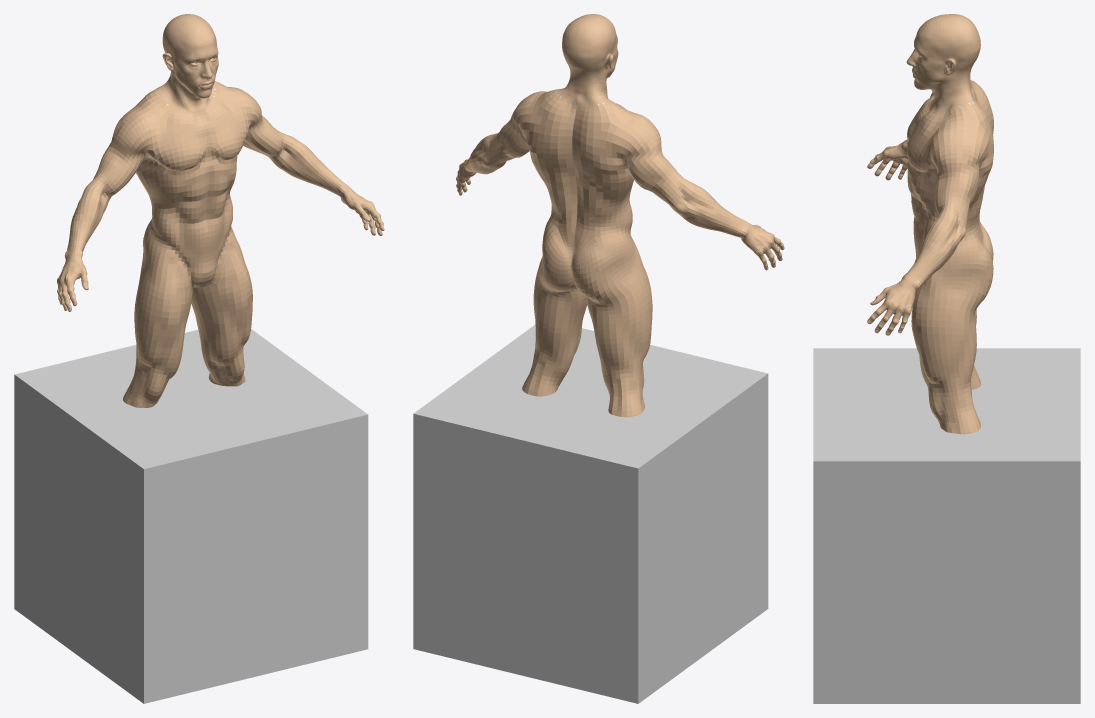
Rendered from body.glb.
The picture shows the model from 3 angles, left to right: view 1: azimuth 30°, elevation 25°; view 2: azimuth 150°, elevation 25°; view 3: azimuth 270°, elevation 25°; orthographic projection. The views are drawn at different scales.
Visible parts, largest first — view 1: Cube, Right_thigh, Left _thigh, Chest, Pelvic, head, Abdominal, Left_fore _arm, Right_lats, Right_fore _arm, Right_brachial, Right_shoulder (+7 smaller); view 2: Cube, Upper_back, Right_thigh, Left _thigh, head, Lower_back, Right_fore _arm, Right_brachial, Right_shoulder, neck, Left _knee, Left_brachial (+5 smaller); view 3: Cube, Left _thigh, head, Left_fore _arm, Left_shoulder, Left_brachial, Upper_back, Left _knee, Chest, Left_wrist, neck, Right_wriist (+6 smaller).
Part boxes in pixels (x1,y1,x2,y2): Cube: [14, 329, 368, 703]; Right_thigh: [134, 220, 192, 375]; Left _thigh: [191, 226, 252, 359]; Chest: [150, 100, 248, 171]; Pelvic: [171, 194, 231, 289]; head: [162, 14, 218, 98]; Abdominal: [168, 156, 236, 208]; Left_fore _arm: [268, 134, 349, 196]; Right_lats: [136, 155, 171, 246]; Right_fore _arm: [64, 182, 109, 260]; Right_brachial: [91, 142, 149, 199]; Right_shoulder: [111, 109, 152, 154]; Cube: [413, 325, 768, 703]; Upper_back: [526, 89, 629, 203]; Right_thigh: [571, 227, 652, 370]; Left _thigh: [533, 217, 586, 356]; head: [562, 14, 618, 77]; Lower_back: [547, 188, 620, 248]; Right_fore _arm: [669, 180, 751, 240]; Right_brachial: [625, 147, 687, 204]; Right_shoulder: [616, 114, 661, 168]; neck: [557, 67, 612, 104]; Left _knee: [529, 342, 576, 385]; Left_brachial: [491, 117, 528, 161]; Cube: [813, 348, 1080, 703]; Left _thigh: [911, 237, 993, 384]; head: [906, 14, 980, 89]; Left_fore _arm: [902, 207, 967, 290]; Left_shoulder: [927, 128, 986, 171]; Left_brachial: [931, 160, 984, 218]; Upper_back: [960, 80, 993, 208]; Left _knee: [925, 377, 975, 426]; Chest: [907, 93, 940, 172]; Left_wrist: [867, 279, 916, 335]; neck: [930, 65, 974, 112]; Right_wriist: [867, 143, 907, 180].
Size of the model in its own units: 2.83 by 5.2 by 2.
